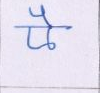au_matra: (34, 7, 60, 45)
